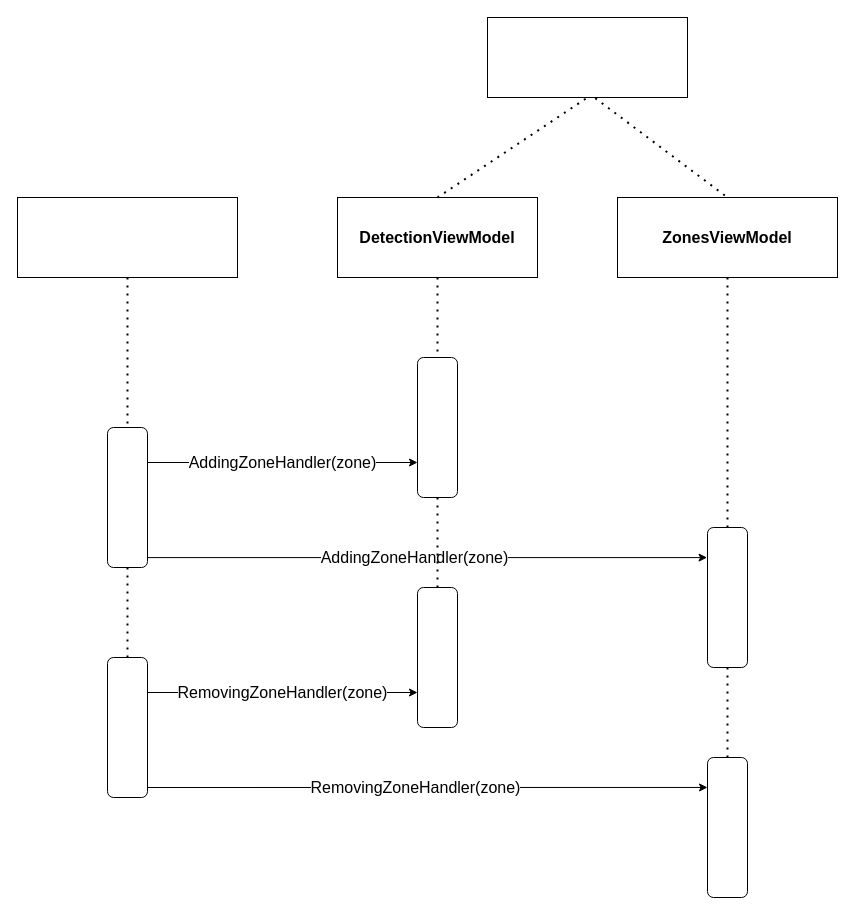
This 855x915 diagram has some shape labels left out. The shapes that lost their labels are listed below. From the top down, each one's centre as x and y in pixels, then its label:
At pixel 587 57: "ZoneConsumer".
At pixel 127 237: "DetectionZonesViewModel".
